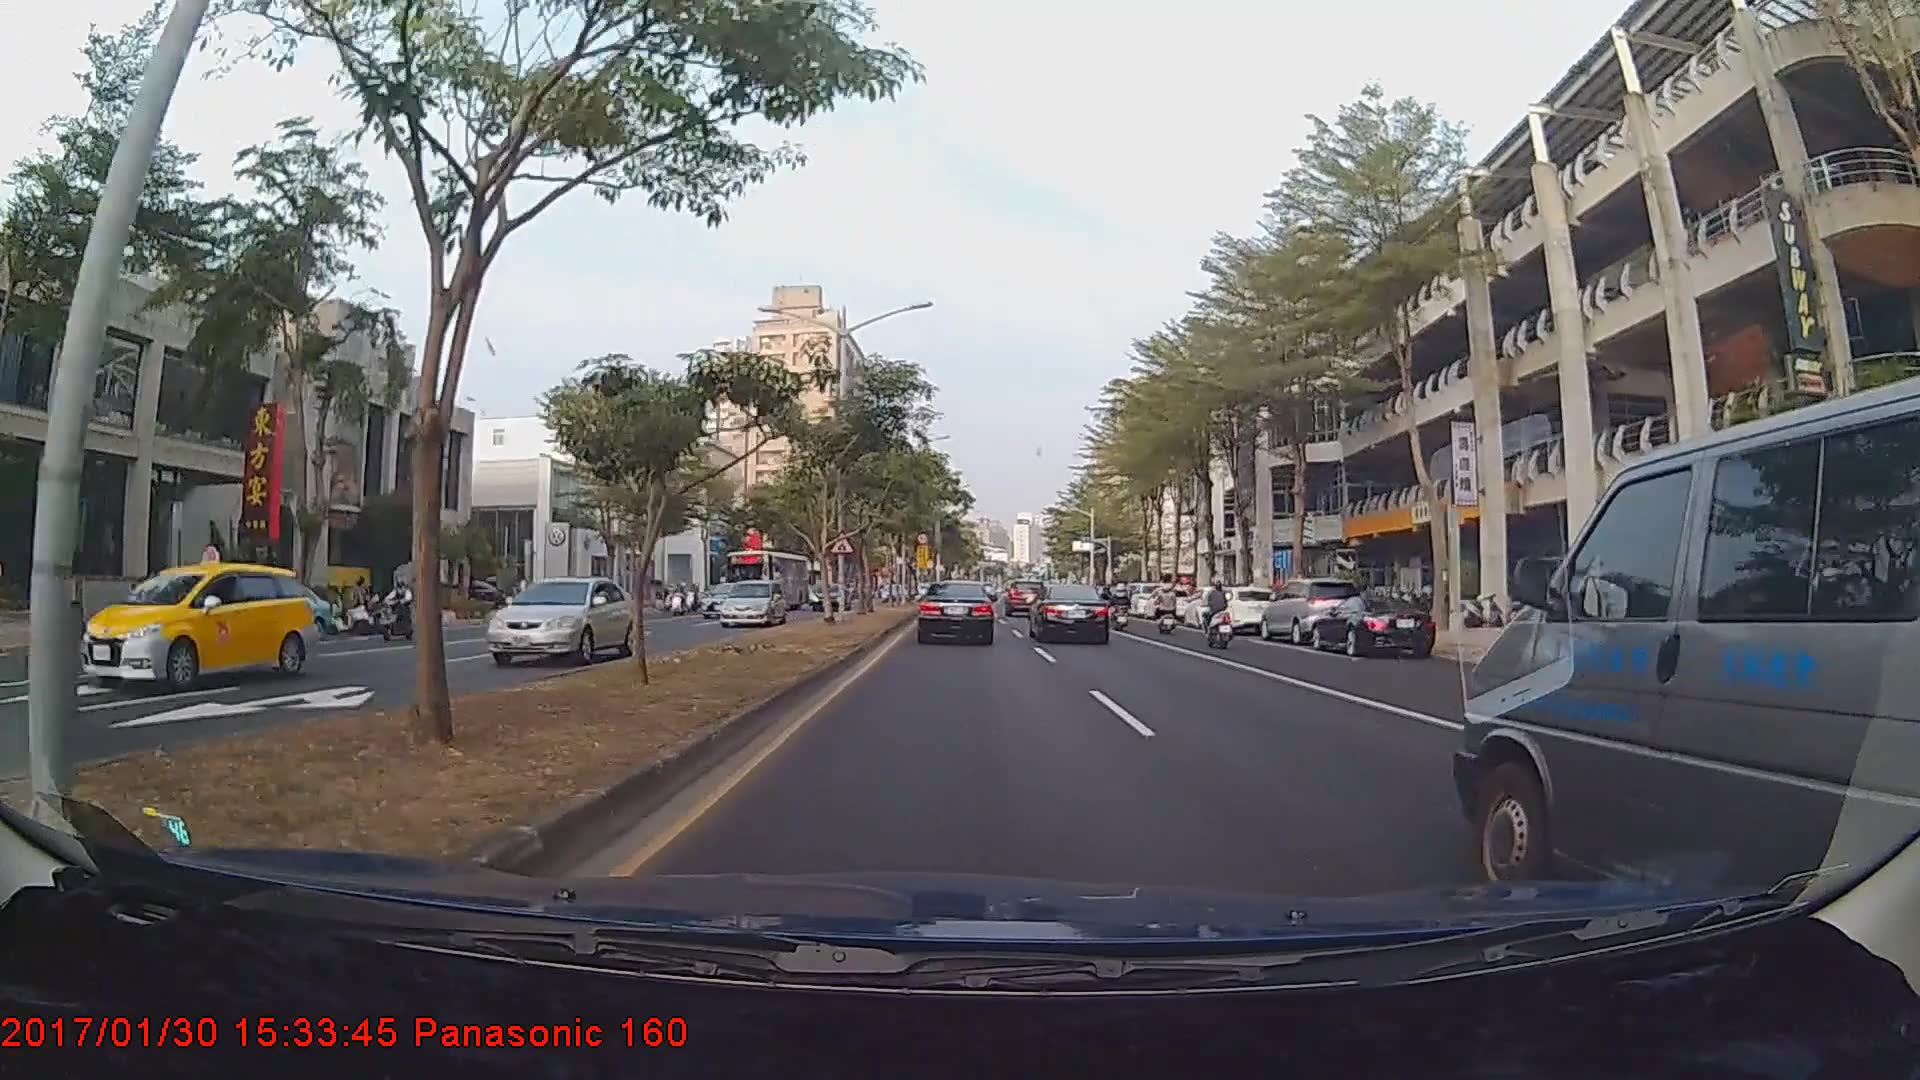rider: (376, 574, 424, 649), (1199, 582, 1240, 656), (1149, 582, 1183, 641), (1109, 584, 1133, 635)
vehicle: (1464, 414, 1913, 897), (77, 557, 318, 694), (486, 575, 638, 662), (1309, 596, 1437, 657), (1264, 579, 1371, 650), (723, 548, 811, 615), (915, 579, 997, 646), (1029, 581, 1111, 646), (715, 579, 789, 627), (1208, 586, 1277, 636), (1181, 584, 1240, 626), (697, 583, 749, 618), (1004, 578, 1050, 616), (809, 579, 850, 609)
